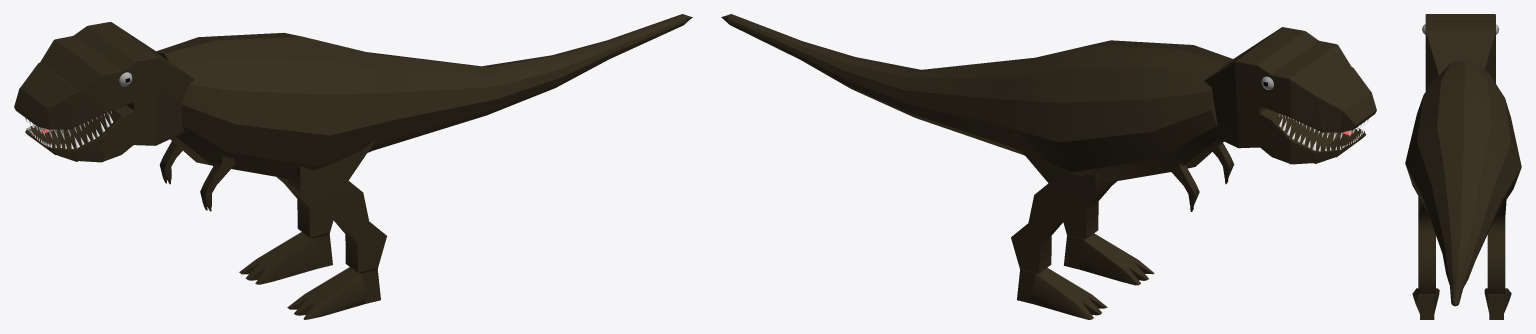
File: Dinosaur.fbx
3 renders of one model, left to right at view 1: azimuth 30°, elevation 25°; view 2: azimuth 150°, elevation 25°; view 3: azimuth 270°, elevation 25°, orthographic. The views are drawn at different scales.
Visible parts, largest first — view 1: Dinasaur; view 2: Dinasaur; view 3: Dinasaur.
Part boxes in pixels (x1,y1,x2,y2): Dinasaur: (14,14,692,319); Dinasaur: (721,14,1376,319); Dinasaur: (1405,14,1521,319).
Bounding box in the file's own units: 17.96 × 7.63 × 3.78.
